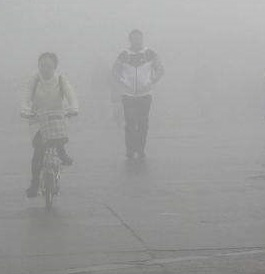person: (20, 51, 78, 209), (111, 29, 164, 161)
